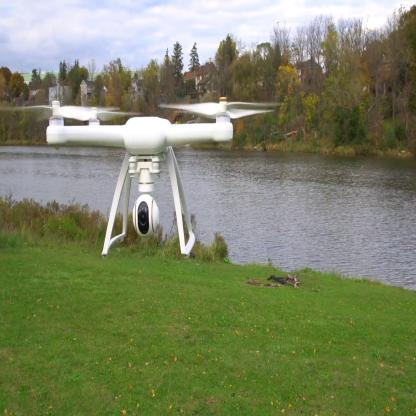drone: (23, 86, 279, 184)
